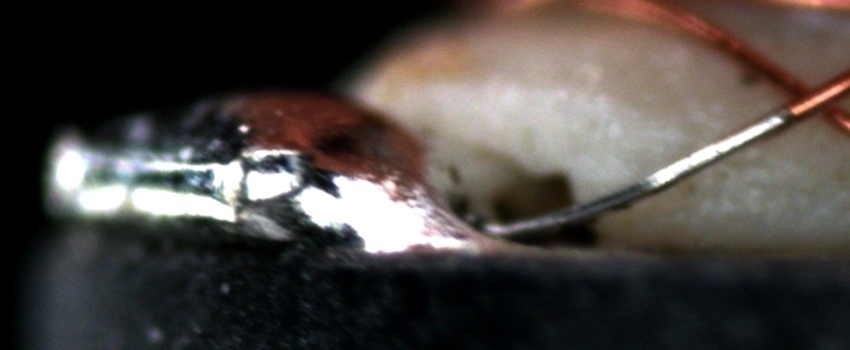CL: (767, 62, 848, 130)
TS: (478, 108, 794, 234)
